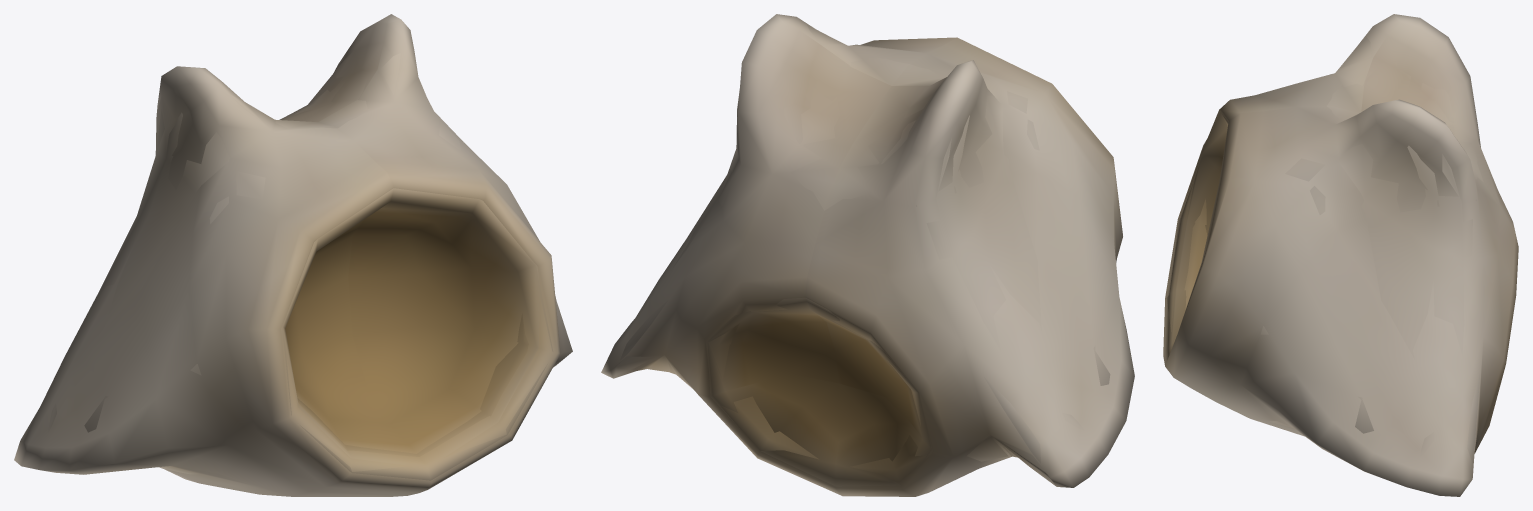
File: vertebrae caudales 06.fbx
The picture shows the model from 3 angles, left to right: view 1: azimuth 30°, elevation 25°; view 2: azimuth 150°, elevation 25°; view 3: azimuth 270°, elevation 25°; orthographic projection. The views are drawn at different scales.
Parts seen in each view (by area): view 1: vertebrae caudales 06, vertebrae caudales 06 low; view 2: vertebrae caudales 06, vertebrae caudales 06 low; view 3: vertebrae caudales 06, vertebrae caudales 06 low.
Boxes of the visible parts, box(x1,y1,x2,y2) form: vertebrae caudales 06: box(14, 14, 572, 496); vertebrae caudales 06 low: box(48, 53, 553, 484); vertebrae caudales 06: box(601, 14, 1134, 496); vertebrae caudales 06 low: box(616, 24, 1113, 486); vertebrae caudales 06: box(1163, 14, 1518, 496); vertebrae caudales 06 low: box(1164, 37, 1483, 463).
Size of the model in its own units: 1.61 by 1.39 by 1.12.
Materials: 1 (1 with a texture image).
